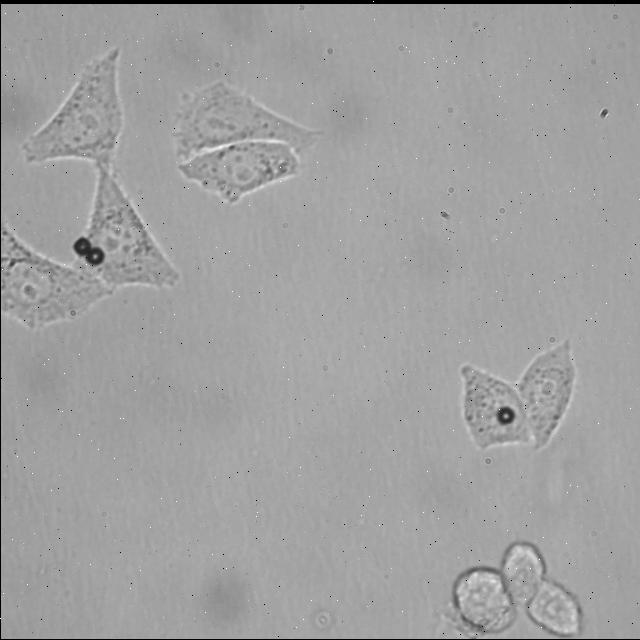microbeads: (70, 236, 90, 254), (497, 404, 515, 424), (87, 244, 103, 266)
